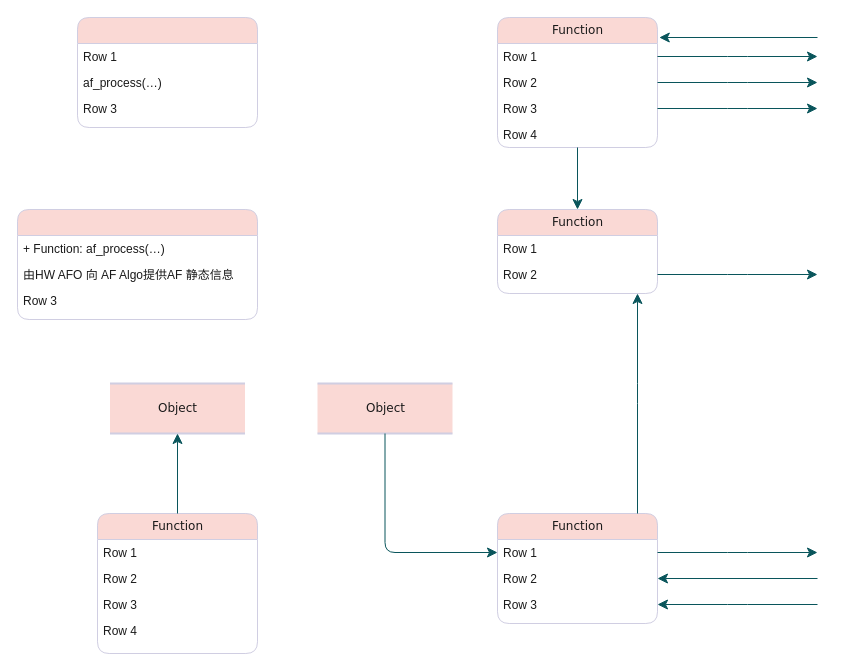
Image size: 845x671. Some labels were removed from this diagram. The shapes that lost their labels are listed below. From the top down, each one's box as (x1, y1, x2, y2) in pixels, then its label:
(76, 16, 258, 128): AF_INIT_HW_CONFIG_V2
(16, 208, 258, 320): AF_CUSTOMER_PARSE_HW_STATS
